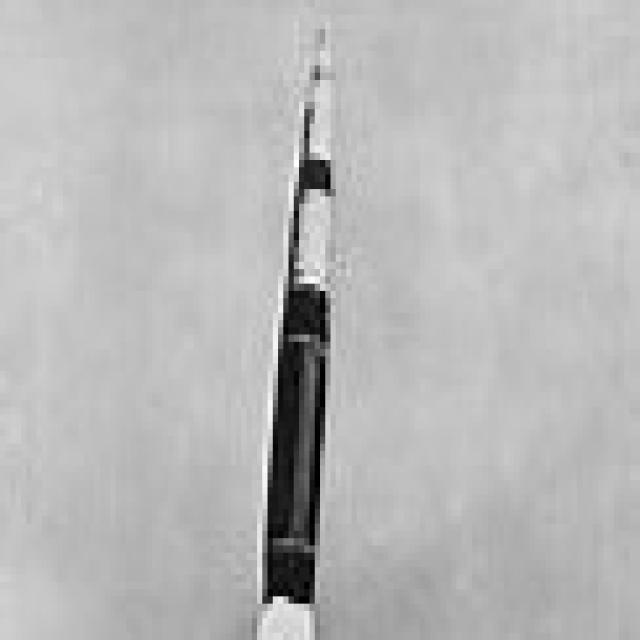missile: (256, 23, 336, 603)
